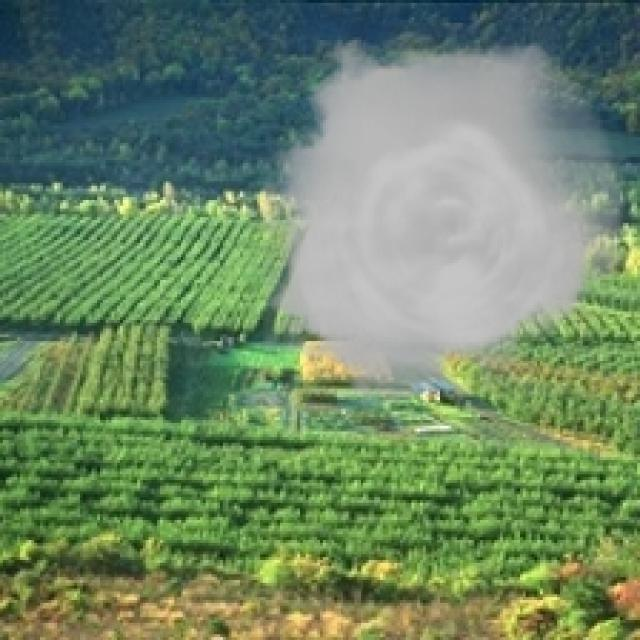Smoke: (263, 22, 626, 418)
